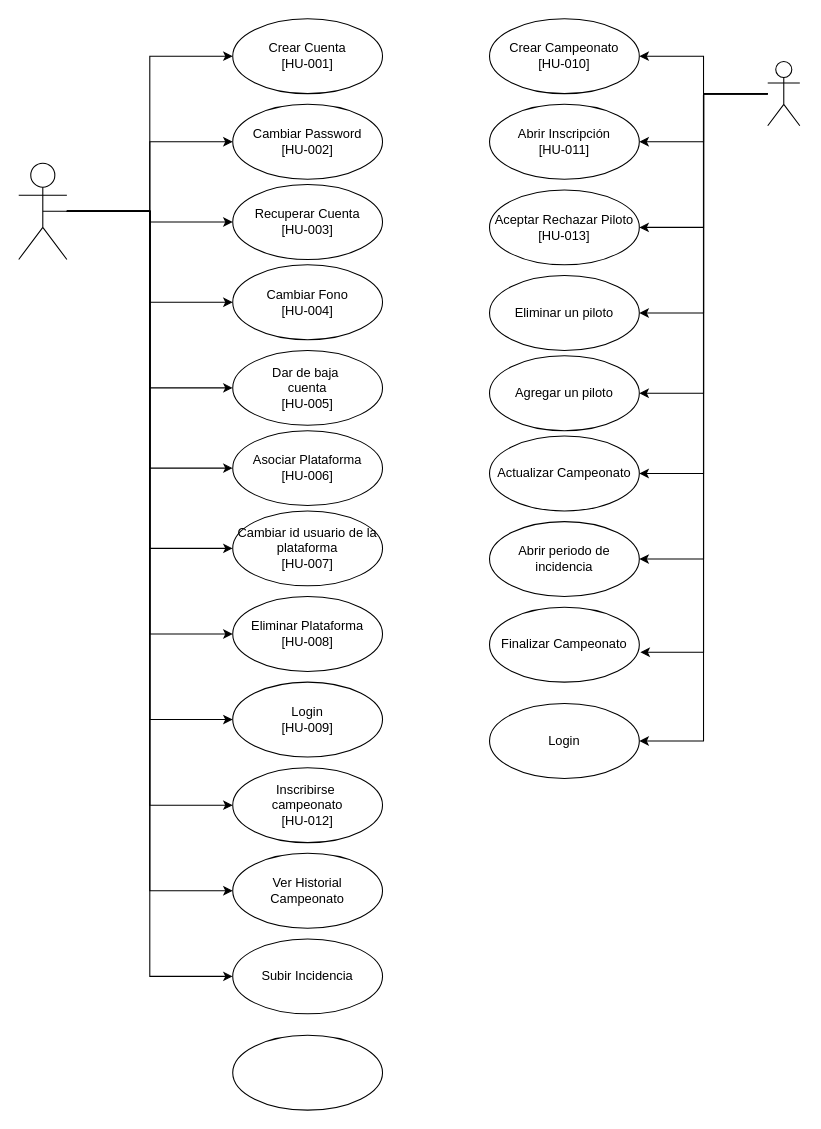
Some shapes in this 821 by 1129 pixel diagram are drawn without their labels. The shapes that lost their labels are listed below. From the top down, each one's centre as x and y in pixels, then its label:
[783,93]: Admin
[42,210]: Piloto
[307,1072]: Ver Estadisticas
